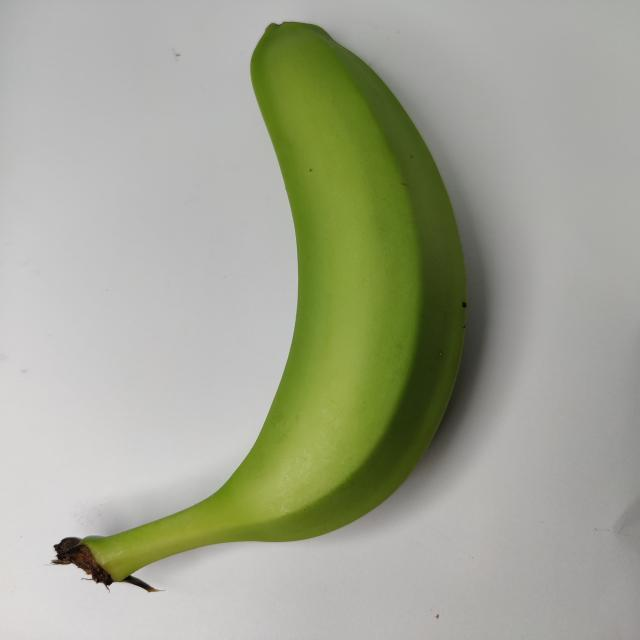raw: (94, 12, 523, 570)
